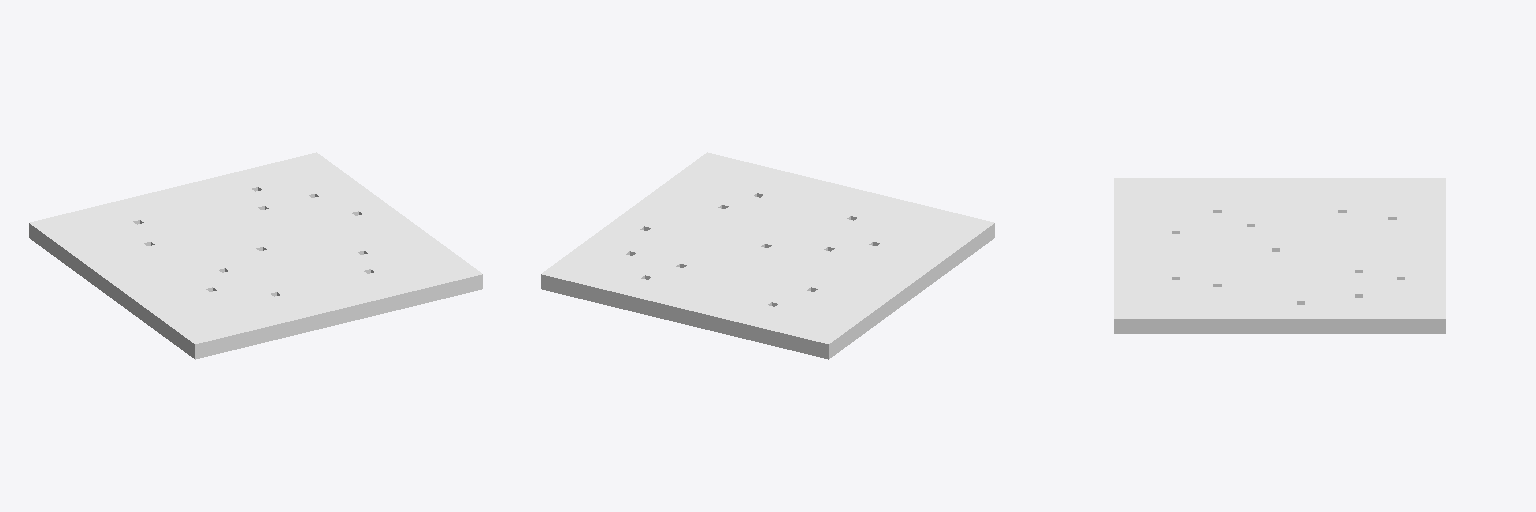
Rendered from Walk3.obj.
3 views of the same model, side by side, from view 1: azimuth 30°, elevation 25°; view 2: azimuth 150°, elevation 25°; view 3: azimuth 270°, elevation 25° (orthographic).
Bounding box in the file's own units: 40 × 2 × 40.